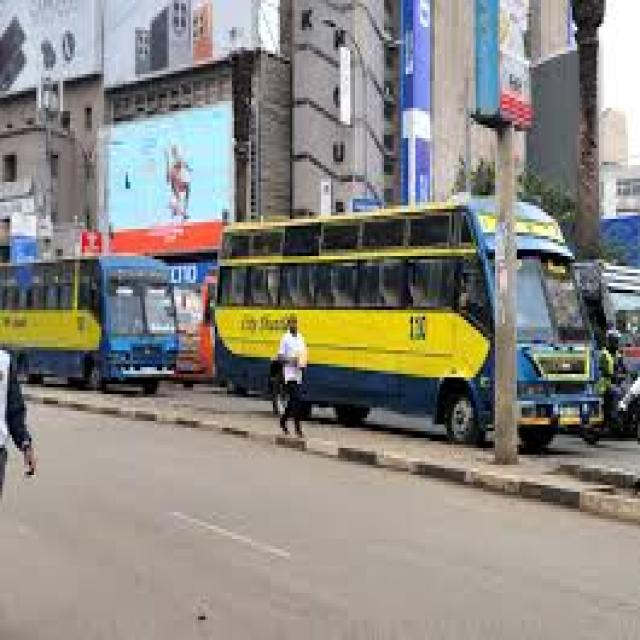bus: (214, 203, 606, 451), (1, 252, 183, 406)
